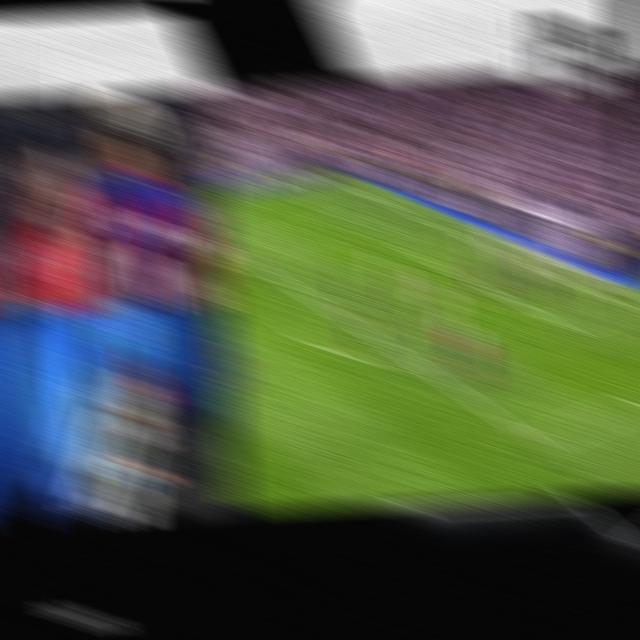bigarea_bottom_inner: (521, 426, 552, 456)
bigarea_top_inner: (221, 240, 248, 260)
bigarea_top_outter: (386, 198, 415, 218)
bottom_arc_area_intersection: (394, 346, 424, 372)
corner: (315, 170, 344, 186)
smallarea_bottom_inner: (549, 312, 577, 338)
smallarea_bottom_outter: (608, 293, 637, 317)
smallarea_top_inner: (405, 243, 433, 265)
smallarea_top_outter: (455, 228, 484, 250)
top_arc_area_intersection: (292, 283, 321, 305)
